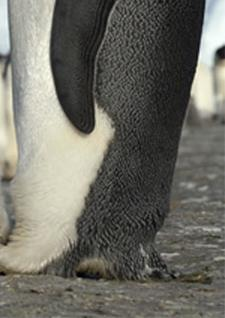Emperor Penguin: (0, 0, 204, 297)
